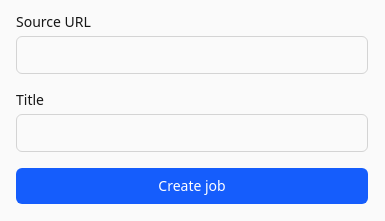
CreateJobForm › resets the form after successful creation
In the field labelled "Source URL": (192, 55) [16, 36, 368, 74], type "https://cdn.example.com/videos/my-video.mp4"
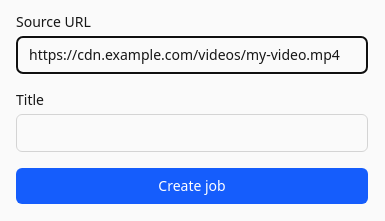
In the field labelled "Title": (192, 133) [16, 114, 368, 152], type "My video"
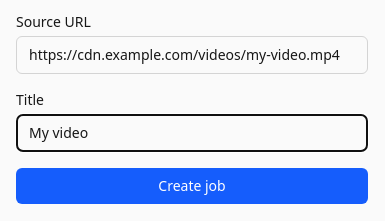
Click the button "Create job": (192, 186) [16, 168, 368, 204]
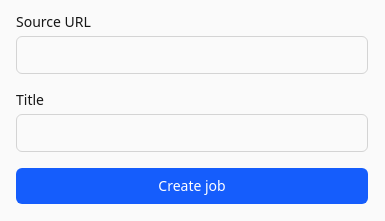
Result: the field labelled "Title" is empty at [16, 114, 368, 152]
